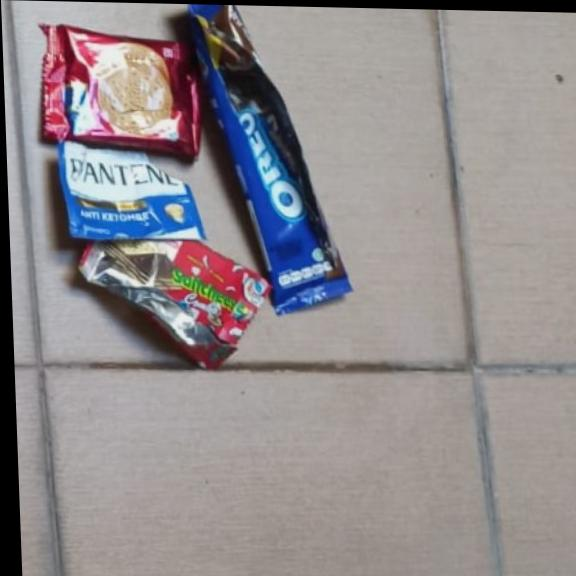Plastik: (186, 4, 354, 319), (76, 237, 275, 373), (37, 22, 204, 158), (56, 142, 205, 241)
